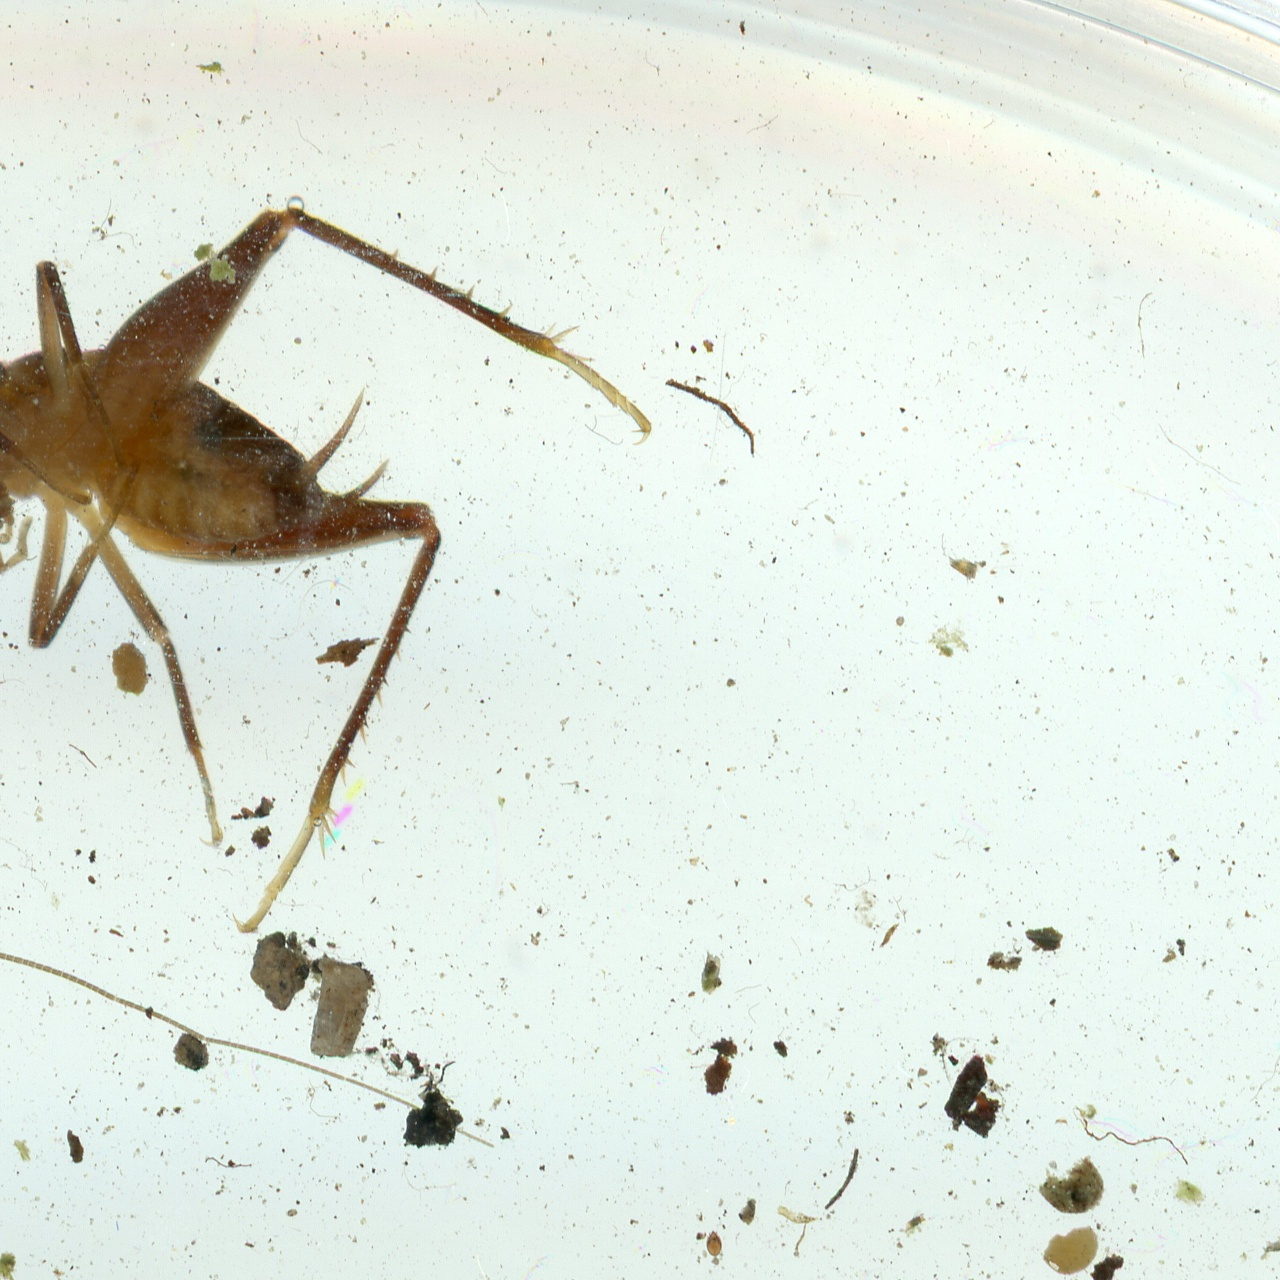arthropod: (0, 193, 669, 1163), (0, 205, 653, 1151), (704, 1229, 726, 1262), (705, 1228, 724, 1259)
